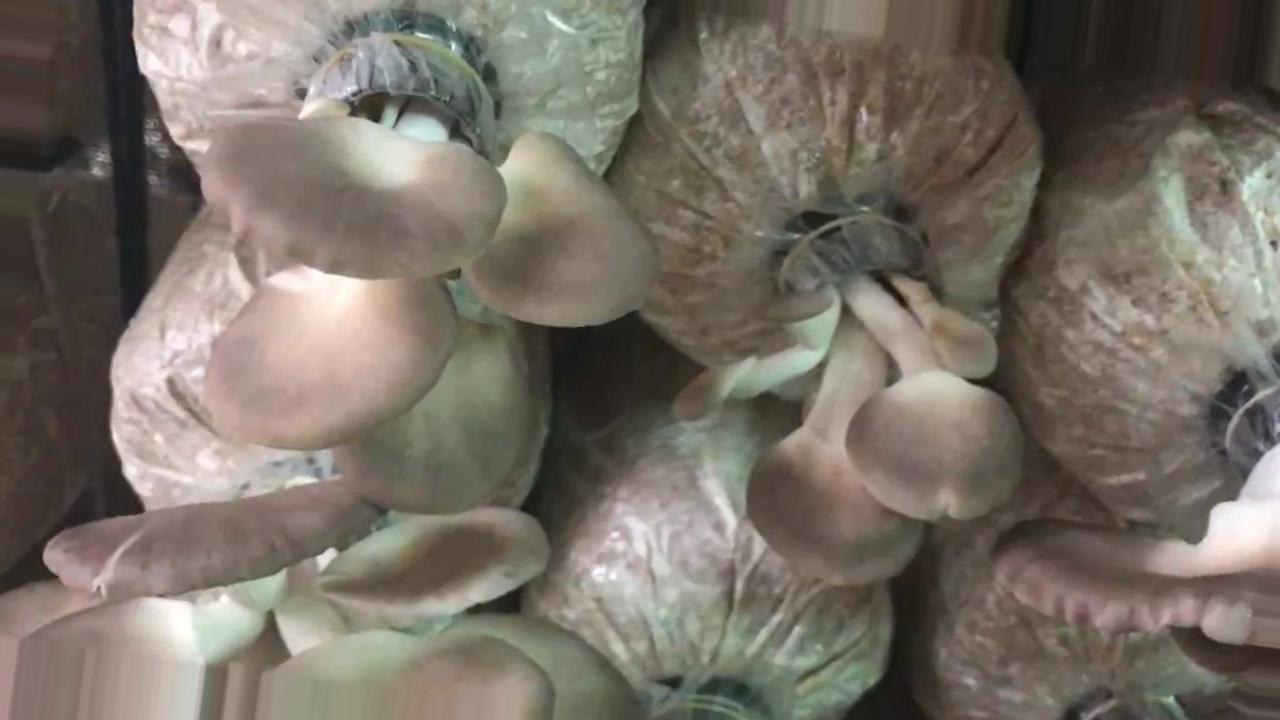nam: (205, 30, 655, 520), (1, 493, 630, 716), (673, 212, 1023, 576), (996, 380, 1278, 720)
